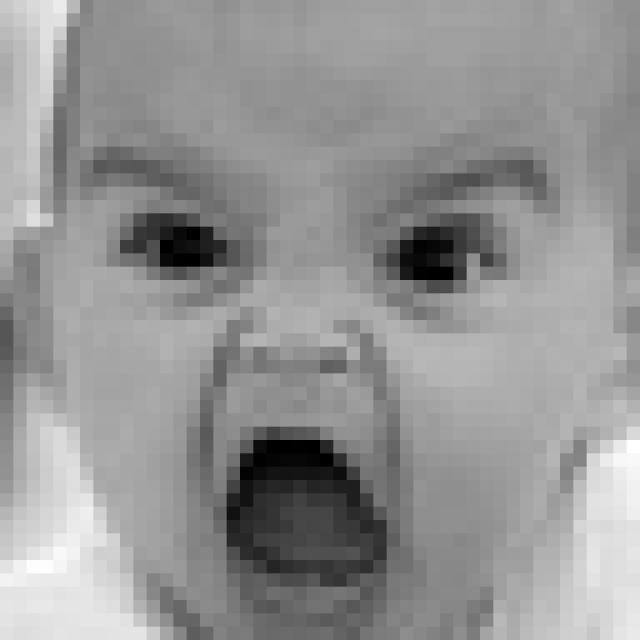angry: (85, 151, 562, 620)
